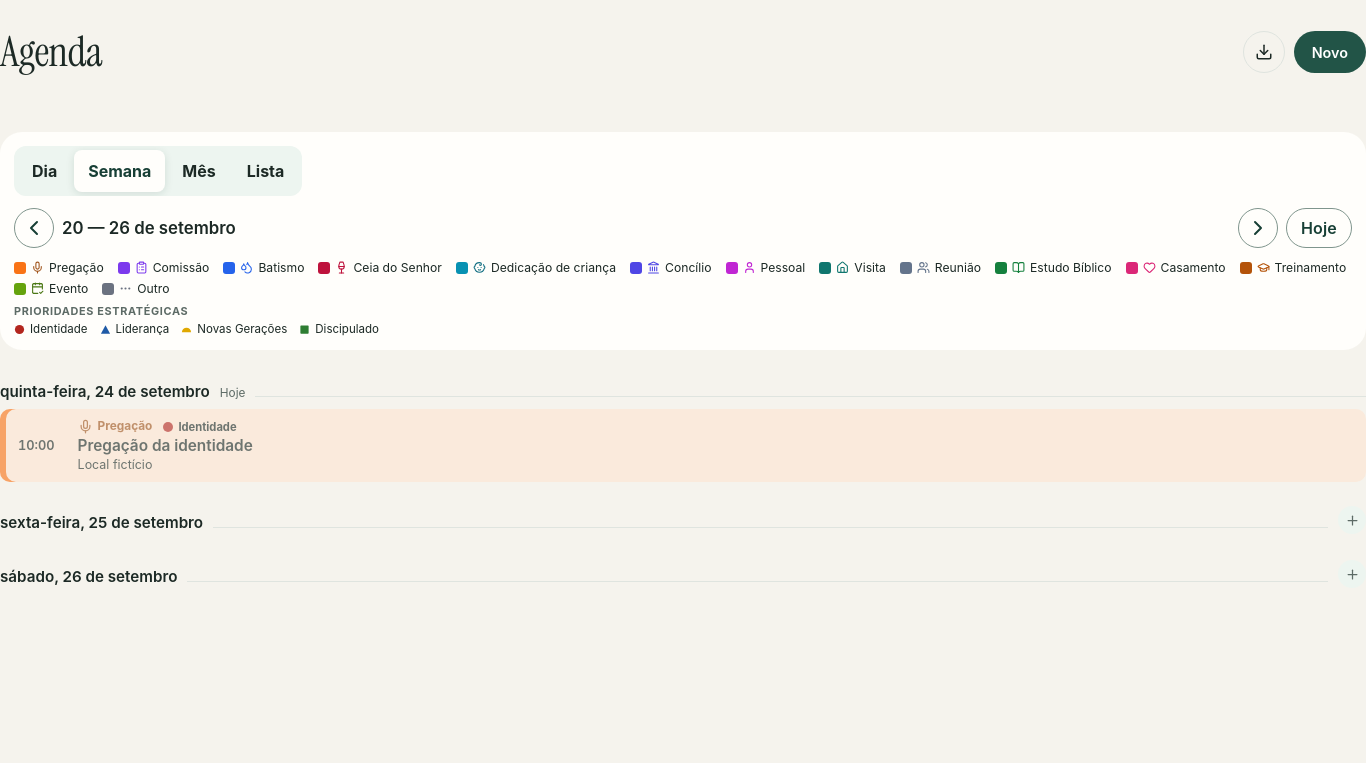
Scenario: identidade das categorias nas quatro visualizações › a mesma categoria tem a mesma cor, o mesmo nome e o mesmo ícone em Dia, Semana, Mês e Lista
This screenshot has width=1366, height=763.
Check: the link named "Abrir Pregação da identidade, Pregação, prioridade estratégica Identidade" is shown, box [0,409,1365,482]
Check: the text "Pregação" below "quinta-feira, 24 de setembro" is shown, box [98,419,152,433]
Click the tab "Dia" at x=45, y=171, box [18,150,71,192]
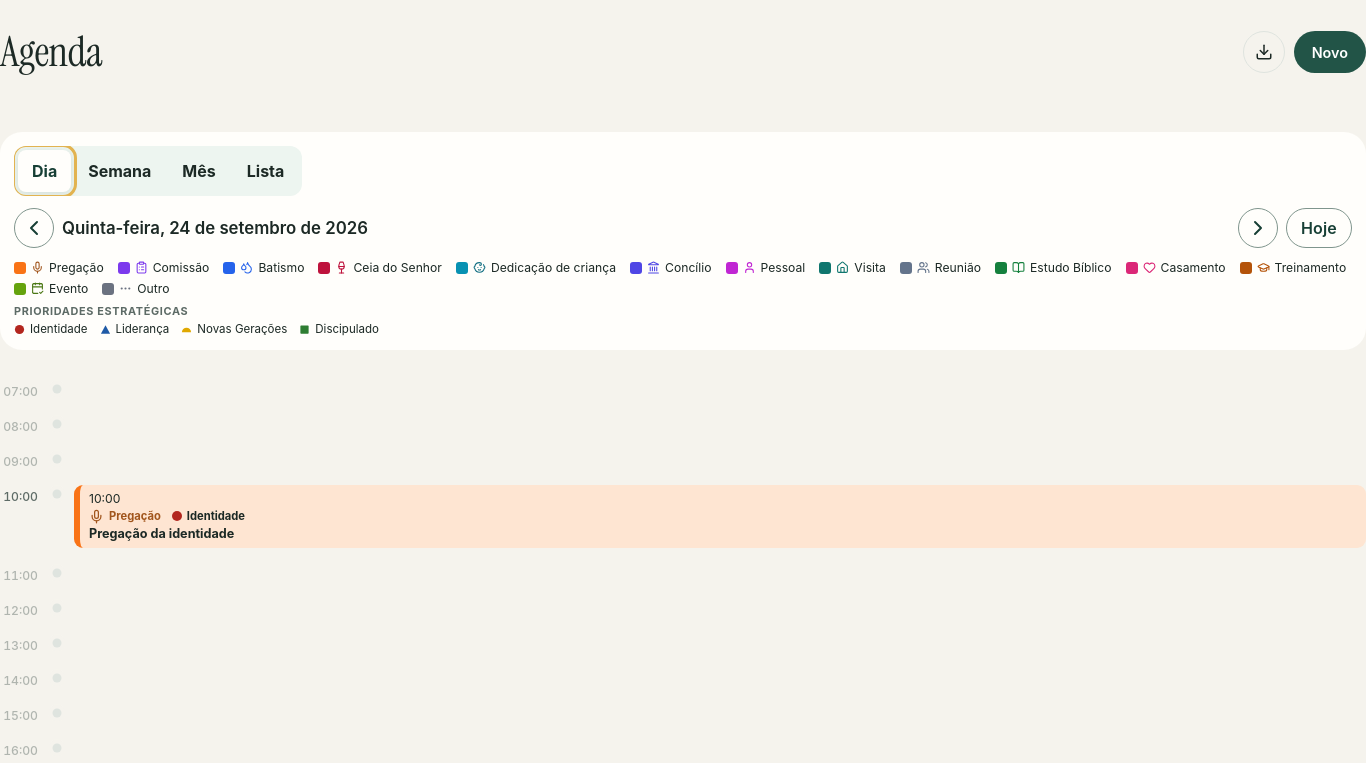
Check: the link named "Abrir Pregação da identidade, Pregação, prioridade estratégica Identidade" is shown, box [74,485,1365,548]
Click the tab "Mês" at x=199, y=171, box [168,150,230,192]
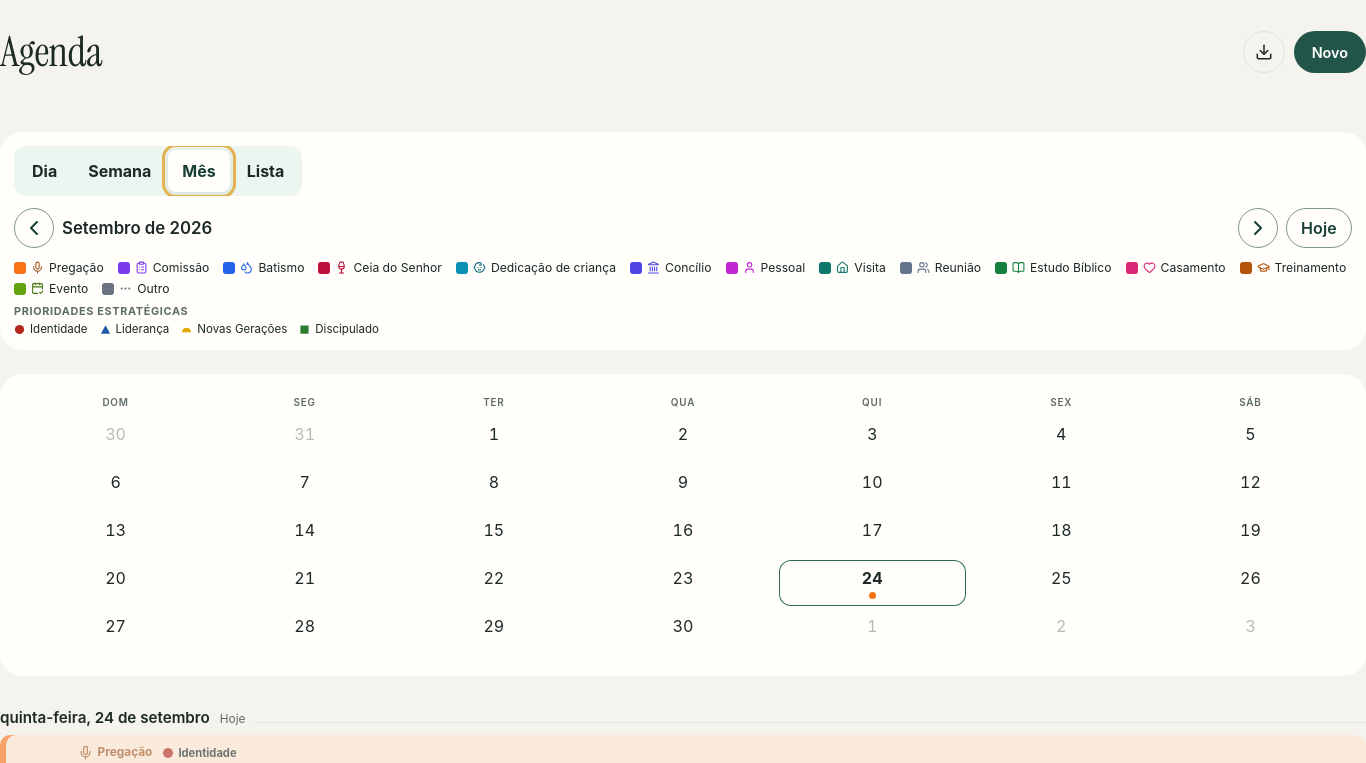
Click the tab "Lista" at x=266, y=171, box [233,150,298,192]
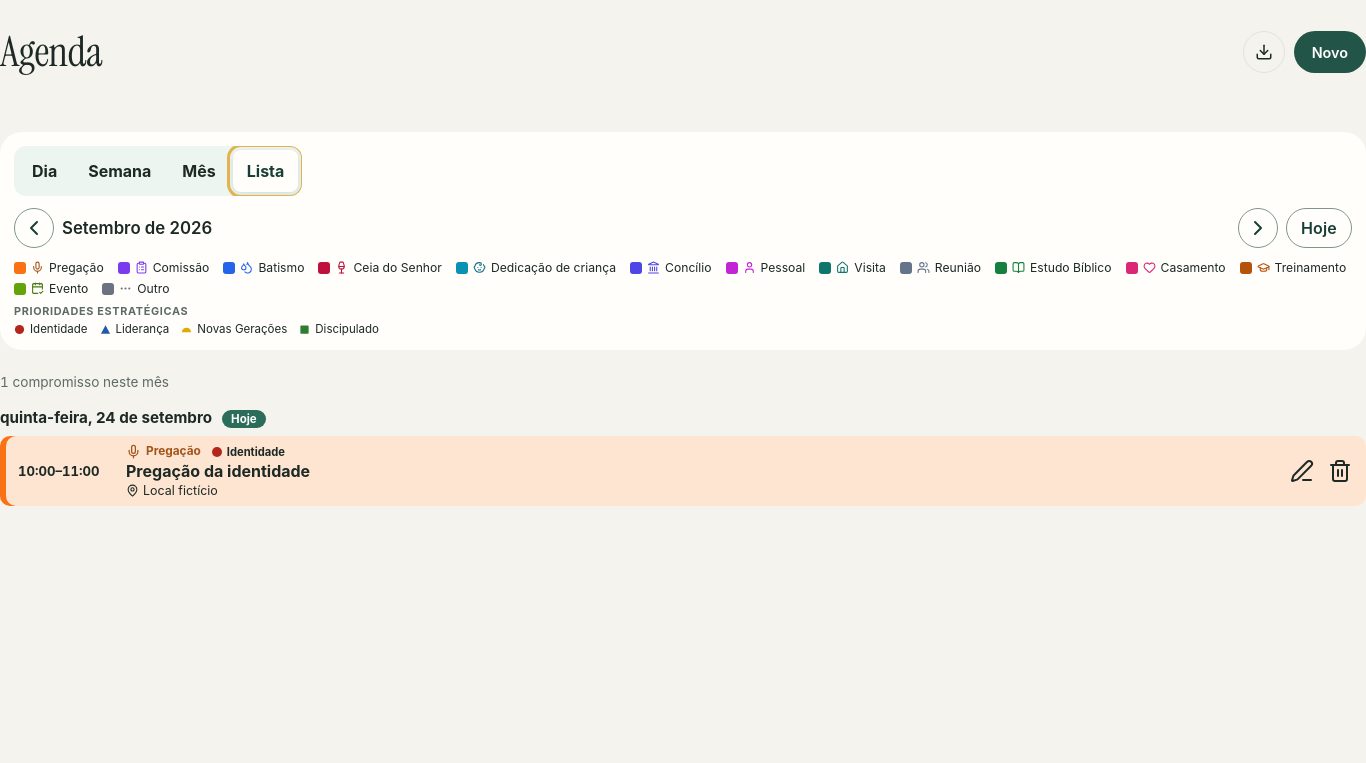
Check: the list item named "Abrir Pregação da identidade, Pregação, prioridade estratégica Identidade" is shown, box [0,436,1365,506]
